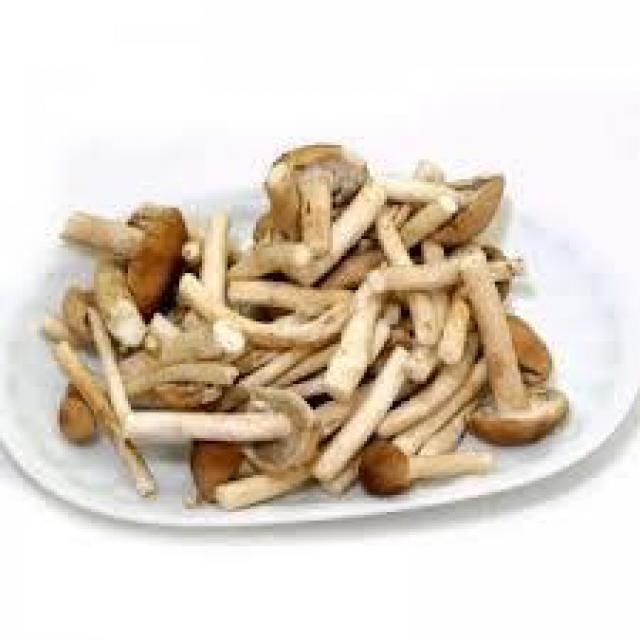Agrocybe aegerita: (41, 141, 573, 505)
